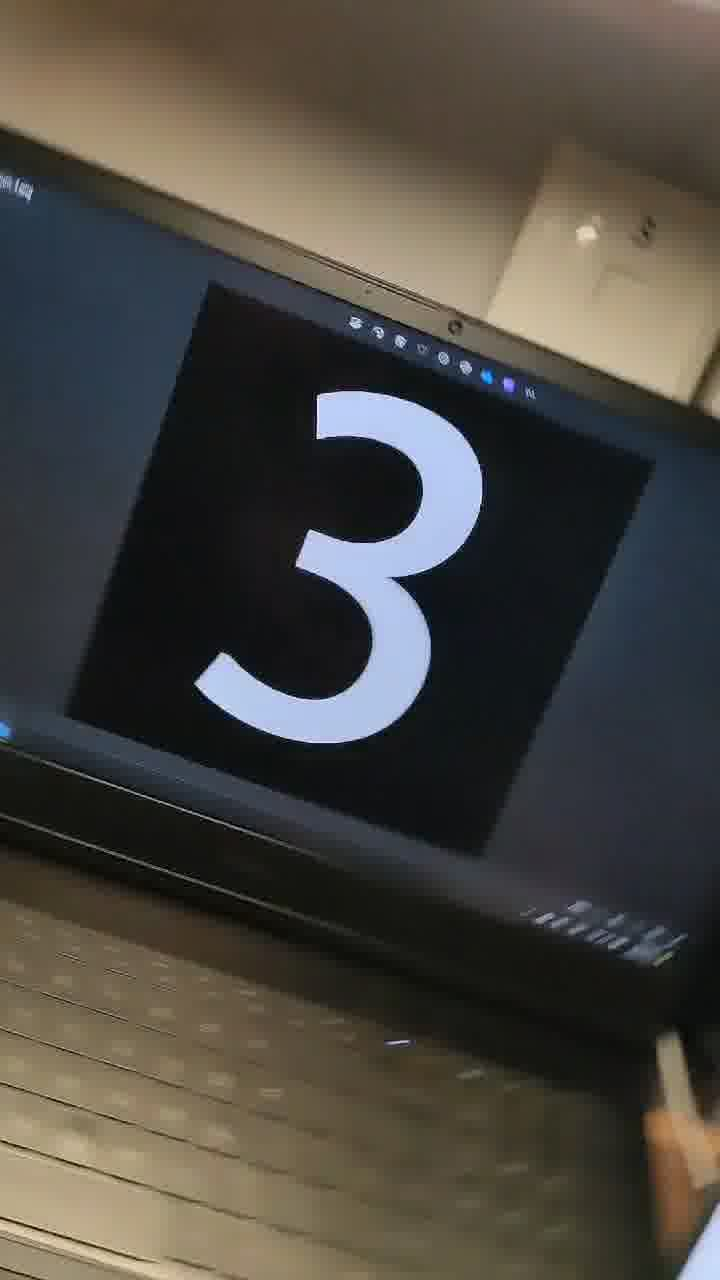three: (133, 300, 476, 842)
